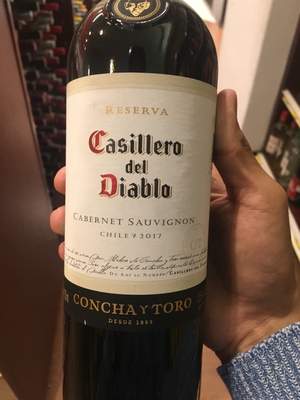casillero del diablo cabernet sauvignon: (60, 6, 217, 400)
